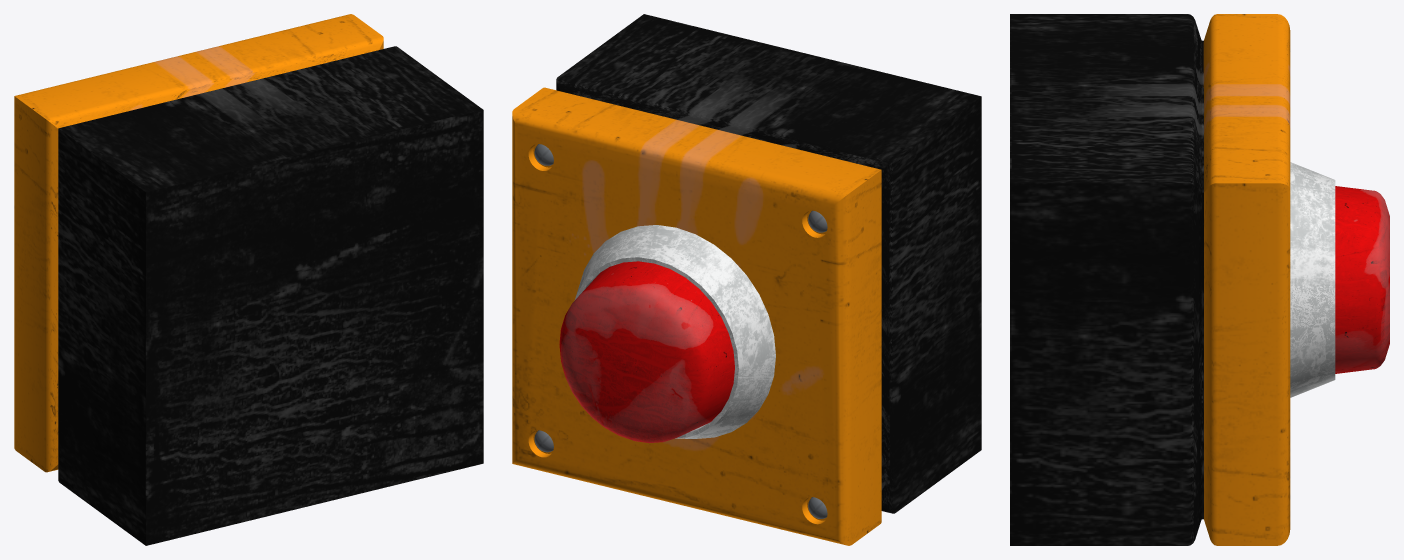
The model's file is red button.fbx.
The picture shows the model from 3 angles, left to right: view 1: azimuth 30°, elevation 25°; view 2: azimuth 150°, elevation 25°; view 3: azimuth 270°, elevation 25°; orthographic projection. The views are drawn at different scales.
Visible parts, largest first — view 1: Cube_Base_0; view 2: Cube_Base_0, Cylinder, Sphere; view 3: Cube_Base_0, Cylinder.
Part boxes in pixels (x1,y1,x2,y2): Cube_Base_0: (14,14,483,545); Cube_Base_0: (512,14,981,545); Cylinder: (559,225,775,443); Sphere: (534,144,827,518); Cube_Base_0: (1010,14,1290,545); Cylinder: (1290,162,1389,397).
Size of the model in its own units: 0.1789 by 0.1789 by 0.1698.
Materials: 4 (4 with a texture image).
